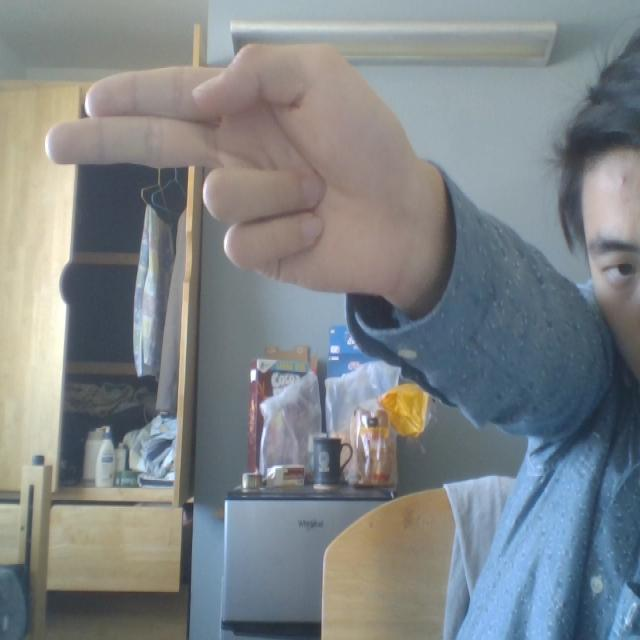H: (44, 32, 474, 335)
